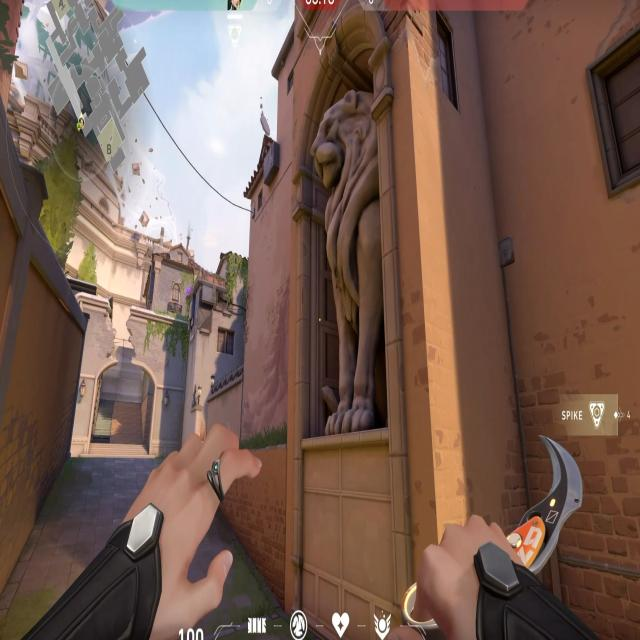Lion_Corner: (296, 0, 398, 443)
